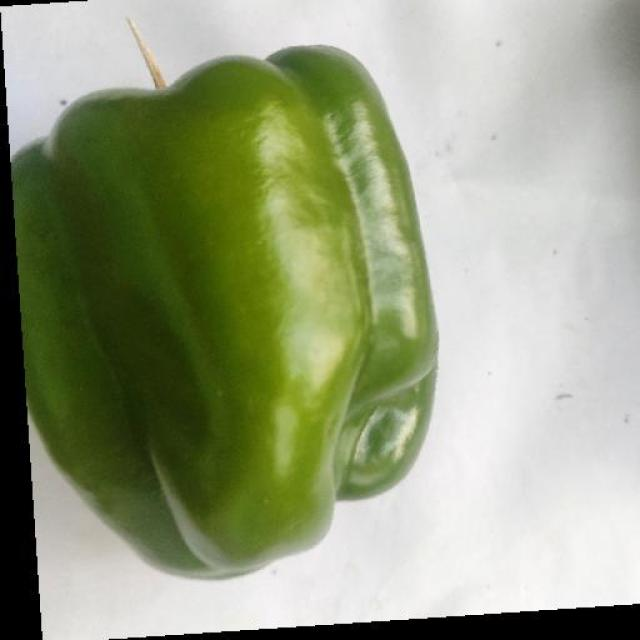Fresh_Capsicum: (6, 24, 468, 547)
